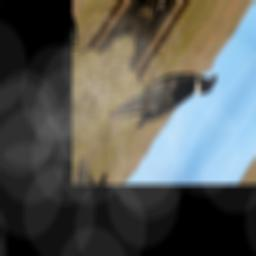Crow: (106, 41, 223, 153)
